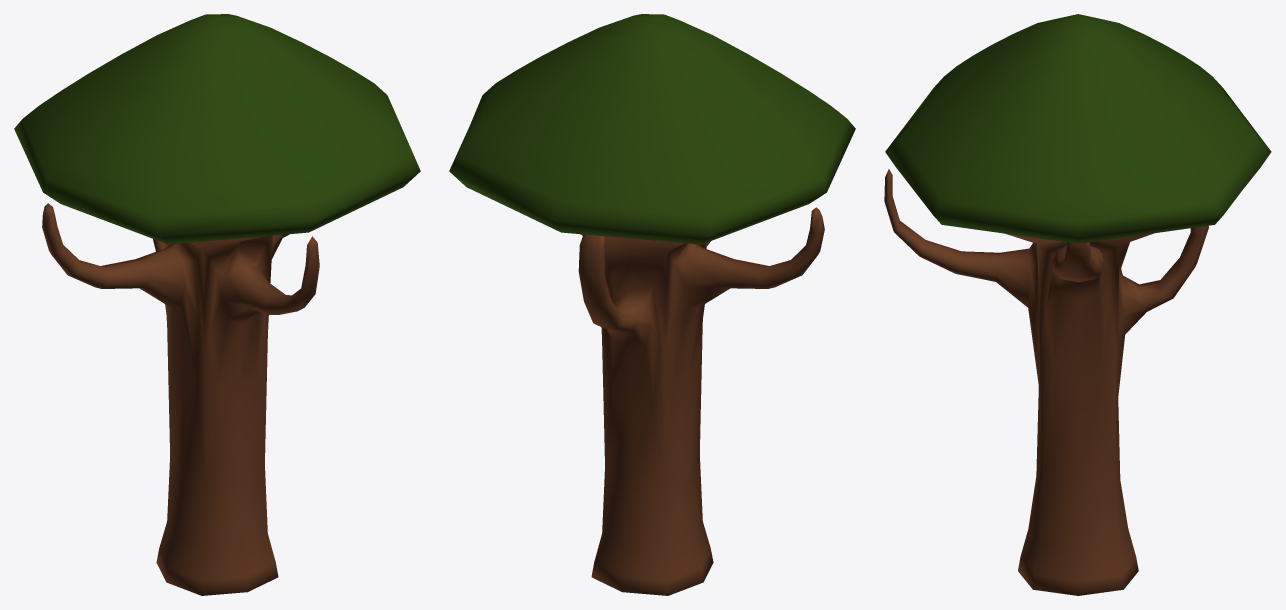
File: tree.fbx
3 renders of one model, left to right at view 1: azimuth 30°, elevation 25°; view 2: azimuth 150°, elevation 25°; view 3: azimuth 270°, elevation 25°, orthographic.
Visible parts, largest first — view 1: tree; view 2: tree; view 3: tree.
Boxes of the visible parts, x1=… form: tree: x1=14, y1=14, x2=420, y2=595; tree: x1=449, y1=14, x2=855, y2=595; tree: x1=884, y1=14, x2=1271, y2=595.
Bounding box in the file's own units: 9.02 × 13.83 × 8.69.
Materials: 1 (1 with a texture image).
